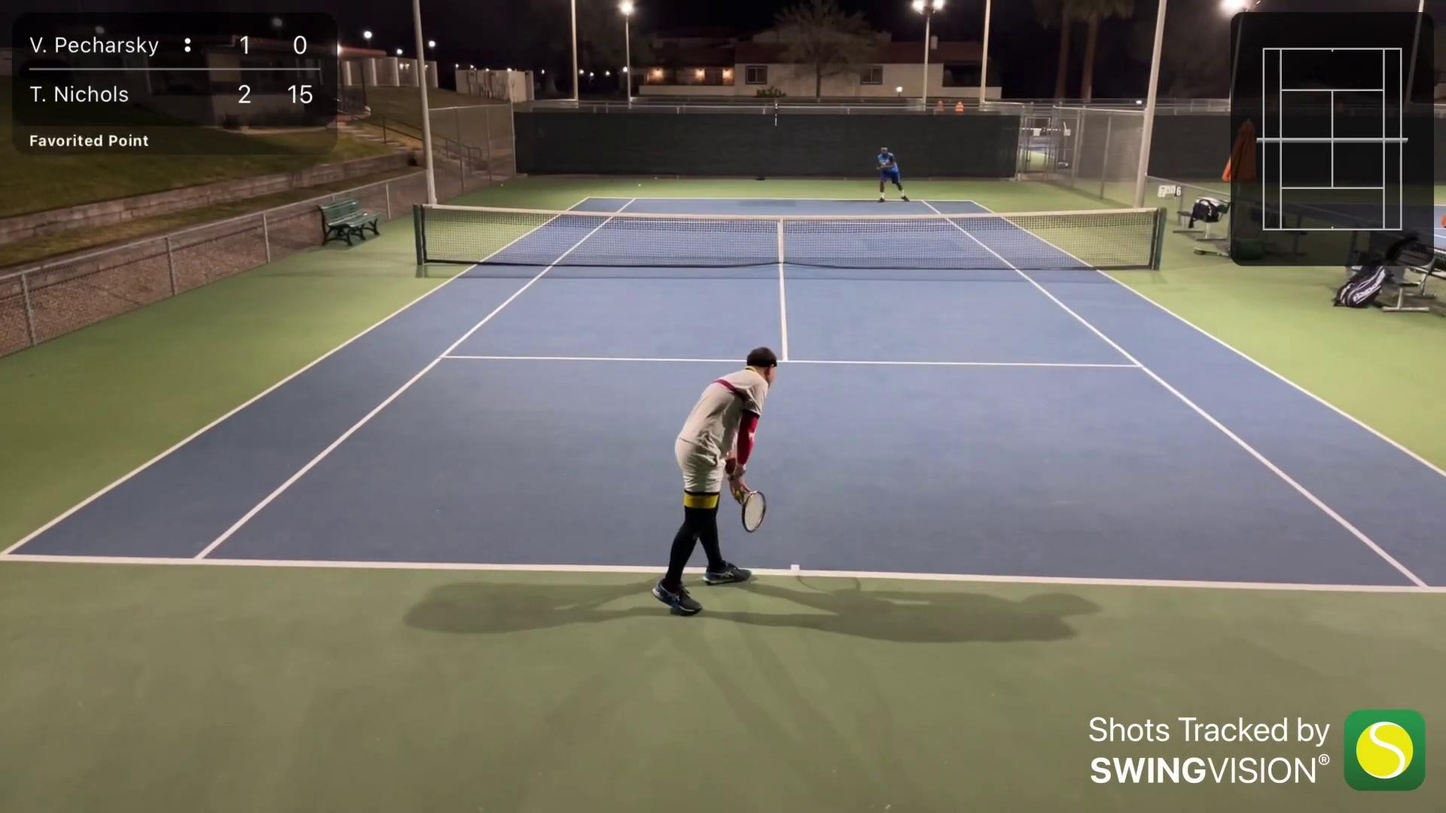ball: (734, 491, 750, 502)
